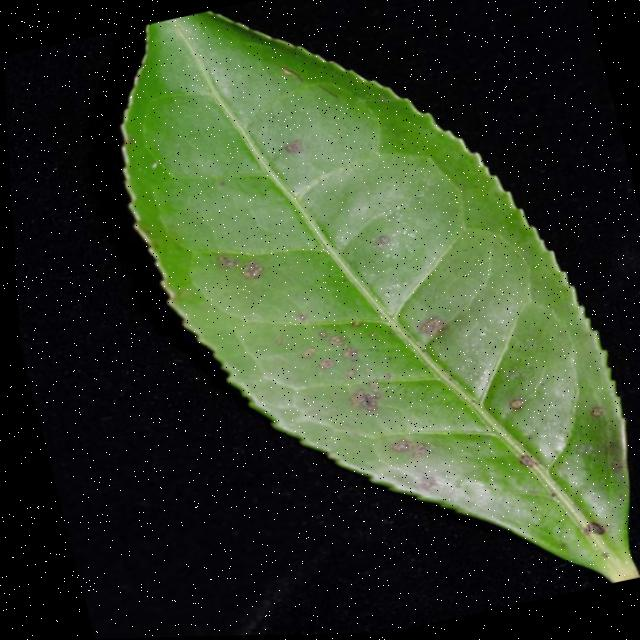Tea red rust: (204, 178, 627, 607)
